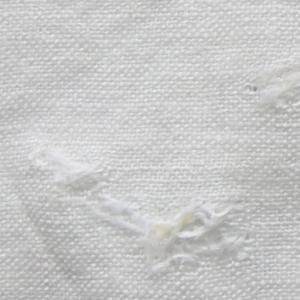Damage: (28, 146, 274, 290), (245, 60, 300, 121)
